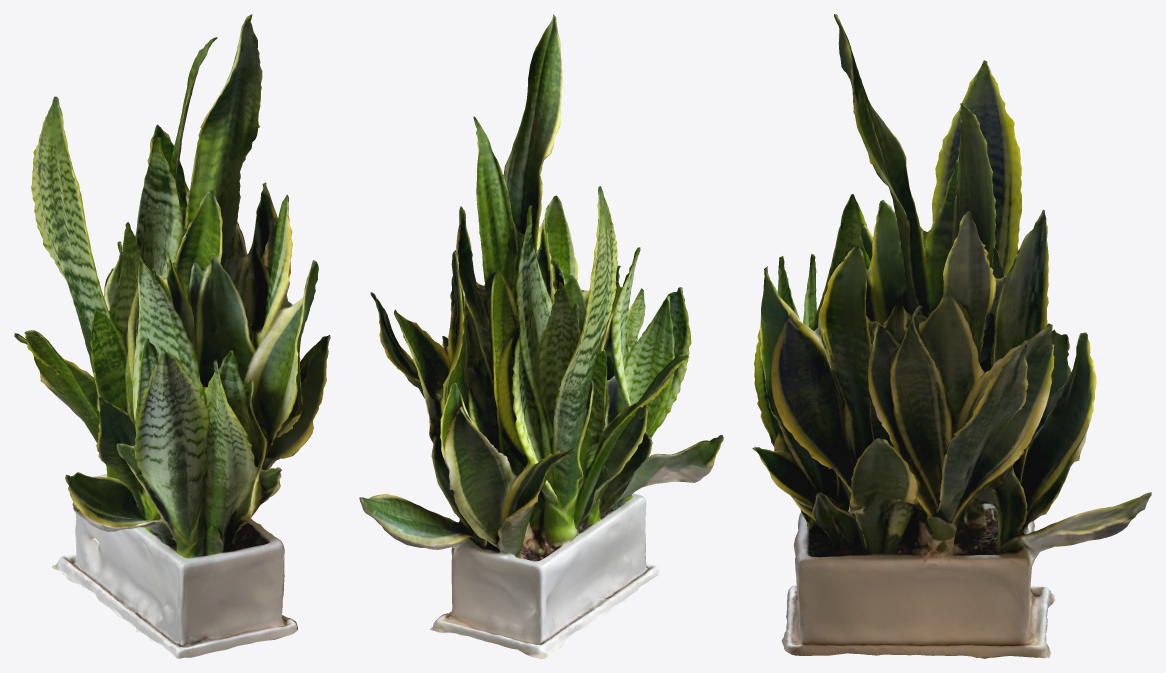
Rendered from snake_plant.glb.
The picture shows the model from 3 angles, left to right: view 1: azimuth 30°, elevation 25°; view 2: azimuth 150°, elevation 25°; view 3: azimuth 270°, elevation 25°; orthographic projection. The views are drawn at different scales.
Parts seen in each view (by area): view 1: Object_4; view 2: Object_4; view 3: Object_4.
Boxes of the visible parts, box(x1,y1,x2,y2) form: Object_4: box(14, 14, 330, 658); Object_4: box(359, 14, 723, 658); Object_4: box(752, 14, 1151, 658).
Bounding box in the file's own units: 0.3798 × 0.7426 × 0.4285.
Materials: 1 (1 with a texture image).
